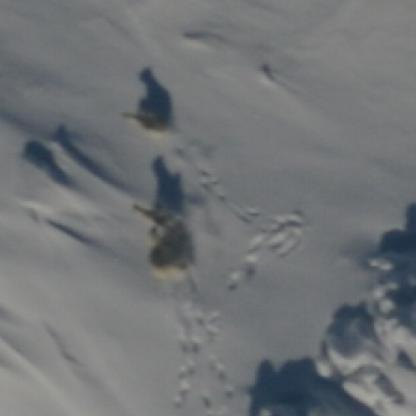polar-bear: (145, 224, 193, 278), (118, 112, 175, 136), (131, 202, 184, 226)
